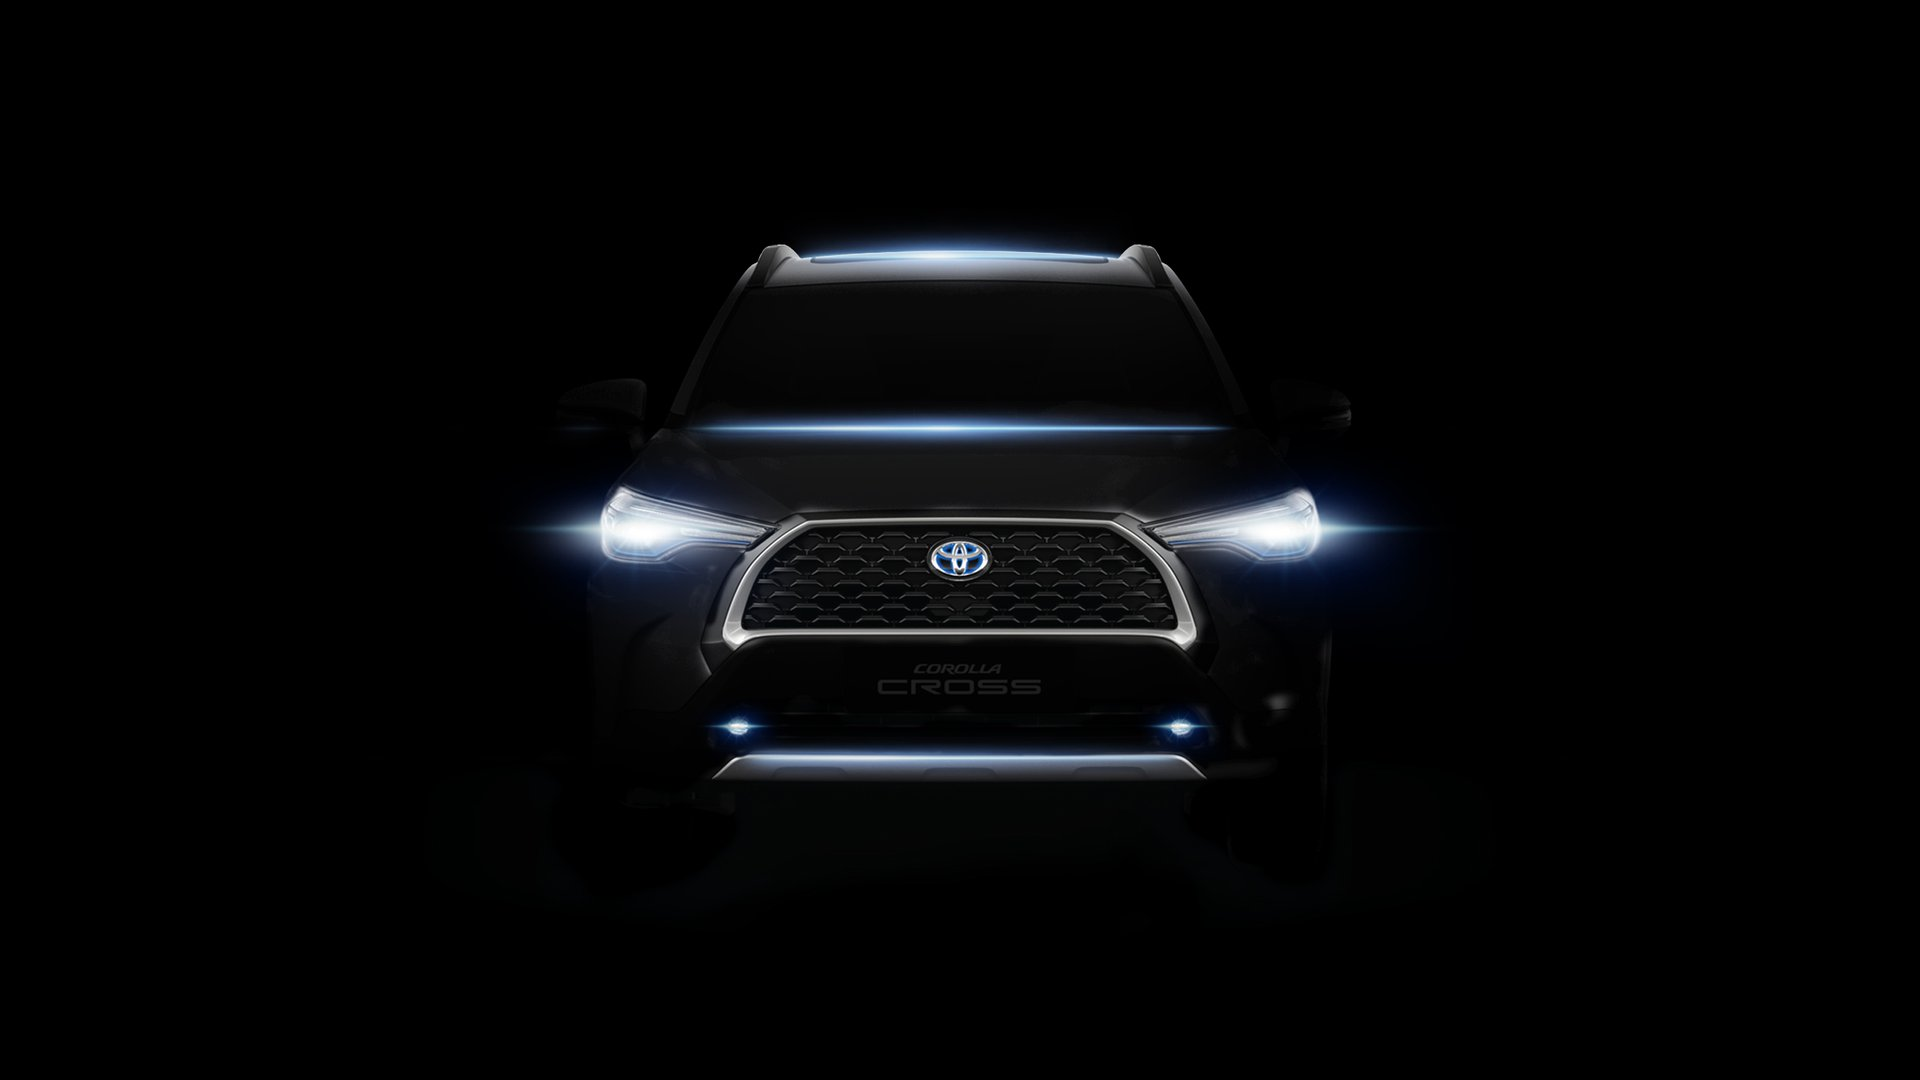car: (589, 204, 1342, 832)
